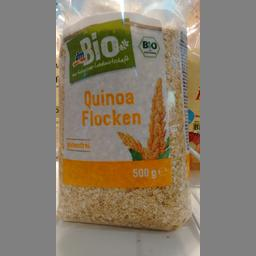cereal: (57, 14, 193, 230)
